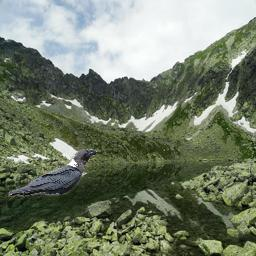Crow: (8, 149, 97, 197)
